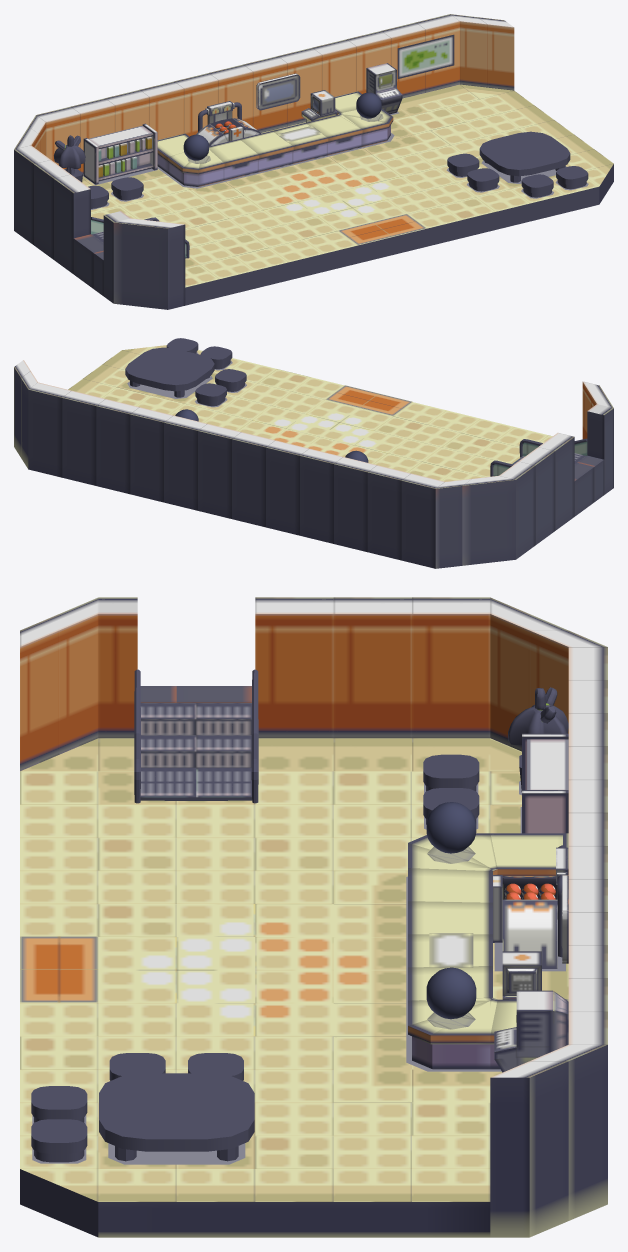
The model's file is RSE_Pokecenter.fbx.
3 renders of one model, top to bottom at view 1: azimuth 30°, elevation 25°; view 2: azimuth 150°, elevation 25°; view 3: azimuth 270°, elevation 25°, orthographic. The views are drawn at different scales.
Visible parts, largest first — view 1: Floor, Wall, Balcony, Bookshelf, Table, Map, Occlusion, HealingMachine, Carpet, TV, PC_02, Tree (+9 smaller); view 2: Wall, Floor, Table, Carpet, Escalator, Chair_03, Occlusion, Chair_04, Chair_05, Chair_06; view 3: Floor, Wall, Balcony, Escalator, Table, Carpet, HealingMachine, Bookshelf, Occlusion, PC_02, Chair_06, Pokeball_02 (+8 smaller).
Part boxes in pixels (box(x1,y1,x2,y2)): Floor: box(82, 84, 613, 305); Wall: box(14, 14, 514, 309); Balcony: box(157, 91, 393, 186); Bookshelf: box(83, 123, 157, 184); Table: box(479, 131, 570, 182); Map: box(397, 34, 454, 78); Occlusion: box(83, 112, 588, 209); HealingMachine: box(196, 101, 260, 146); Carpet: box(338, 214, 426, 244); TV: box(256, 73, 300, 110); PC_02: box(366, 63, 402, 114); Tree: box(53, 135, 85, 182); Wall: box(14, 360, 613, 568); Floor: box(68, 345, 552, 481); Table: box(125, 347, 214, 397); Carpet: box(326, 385, 412, 415); Escalator: box(490, 438, 587, 476); Chair_03: box(195, 383, 226, 406); Occlusion: box(127, 352, 246, 407); Chair_04: box(215, 369, 246, 391); Chair_05: box(200, 346, 232, 369); Chair_06: box(166, 338, 198, 353); Floor: box(20, 738, 568, 1237); Wall: box(20, 597, 607, 1237); Balcony: box(408, 833, 568, 1069); Escalator: box(134, 669, 258, 803); Table: box(99, 1073, 254, 1161); Carpet: box(20, 936, 98, 1002); HealingMachine: box(493, 845, 568, 968); Bookshelf: box(522, 733, 568, 833); Occlusion: box(32, 781, 565, 1164); PC_02: box(494, 990, 568, 1072); Chair_06: box(31, 1119, 87, 1162); Pokeball_02: box(426, 967, 476, 1019).
Size of the model in its own units: 14.5 by 2.26 by 7.5.
